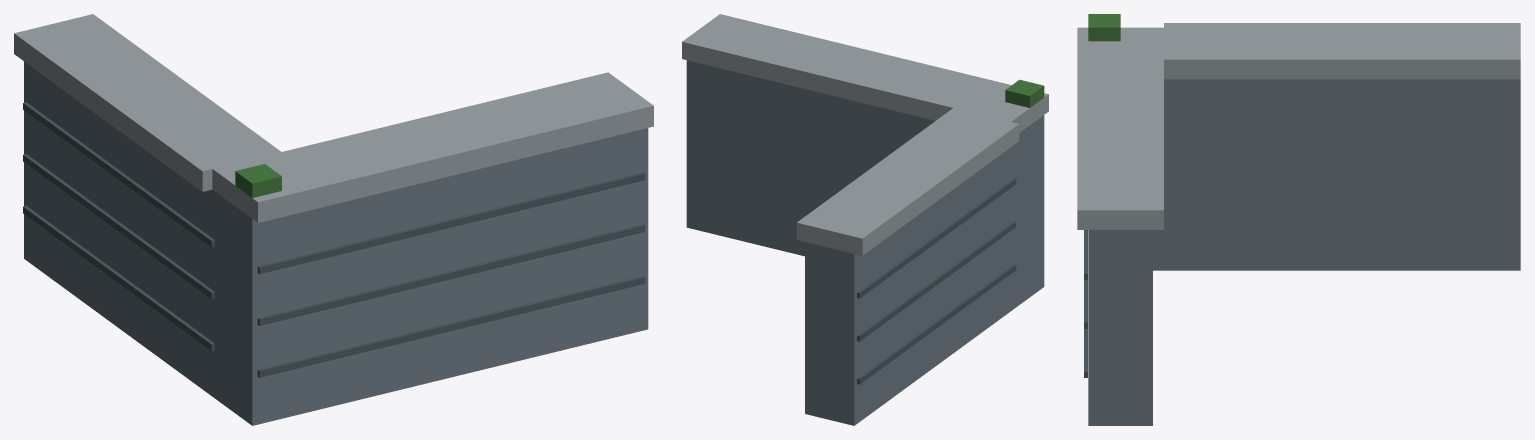
Rendered from Blockland_RetainingWallCorner_Showcase.glb.
3 views of the same model, side by side, from view 1: azimuth 30°, elevation 25°; view 2: azimuth 150°, elevation 25°; view 3: azimuth 270°, elevation 25° (orthographic). The views are drawn at different scales.
Parts seen in each view (by area): view 1: Blockland_RetainingWallCorner_Showcase; view 2: Blockland_RetainingWallCorner_Showcase; view 3: Blockland_RetainingWallCorner_Showcase.
Part boxes in pixels (left/top/right/bottom): Blockland_RetainingWallCorner_Showcase: left=14, top=14, right=653, bottom=425; Blockland_RetainingWallCorner_Showcase: left=682, top=14, right=1048, bottom=425; Blockland_RetainingWallCorner_Showcase: left=1077, top=14, right=1520, bottom=425.
Bounding box in the file's own units: 4.1 × 2.34 × 4.1.
